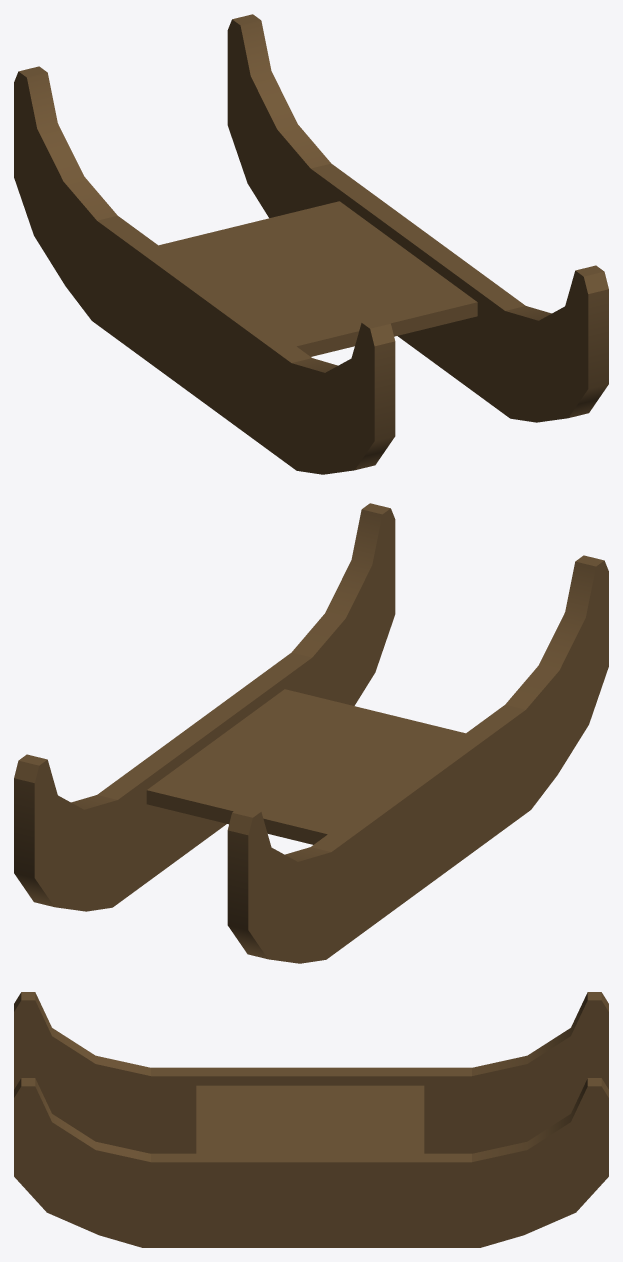
Rendered from Boat4.fbx.
3 views of the same model, one above another, from view 1: azimuth 30°, elevation 25°; view 2: azimuth 150°, elevation 25°; view 3: azimuth 270°, elevation 25° (orthographic). The views are drawn at different scales.
Visible parts, largest first — view 1: pTorus25; view 2: pTorus25; view 3: pTorus25.
Boxes of the visible parts, x1,y1,x2,y2 form: pTorus25: [14, 14, 608, 474]; pTorus25: [14, 503, 608, 963]; pTorus25: [14, 992, 608, 1247].
Bounding box in the file's own units: 0.9808 × 0.7825 × 2.61.
